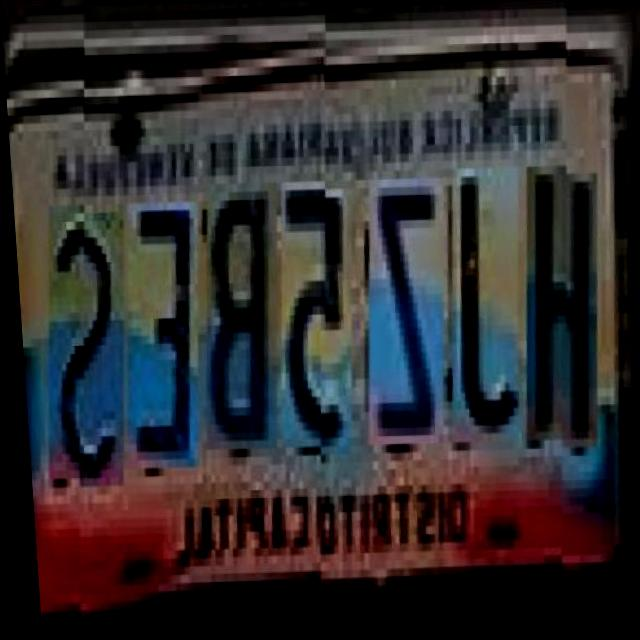5: (267, 181, 365, 449)
b: (192, 183, 291, 451)
e: (114, 202, 212, 468)
h: (512, 159, 612, 435)
j: (439, 161, 532, 436)
s: (34, 211, 138, 487)
z: (356, 170, 457, 438)
